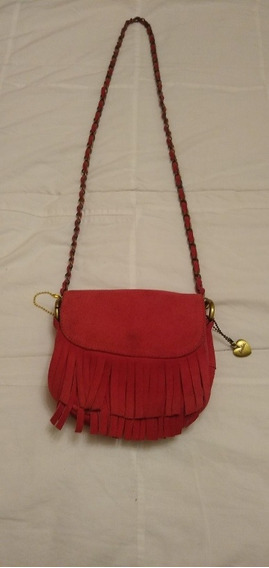cartera: (48, 17, 218, 444)
